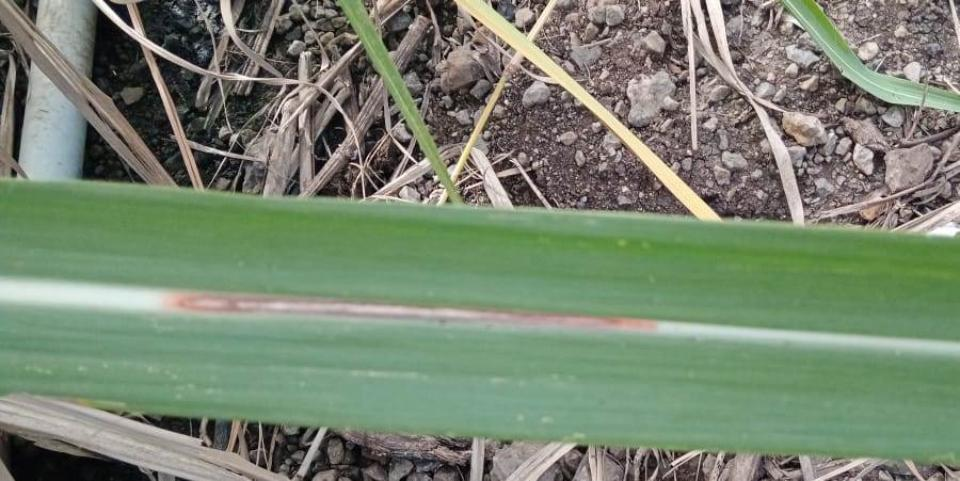RedRot: (154, 288, 658, 333)
